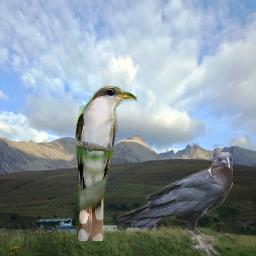Crow: (117, 152, 233, 256)
Cuckoo: (74, 85, 137, 241)
